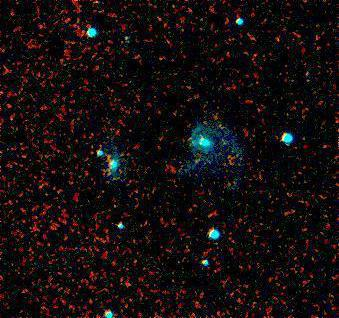star: (92, 140, 122, 170)
